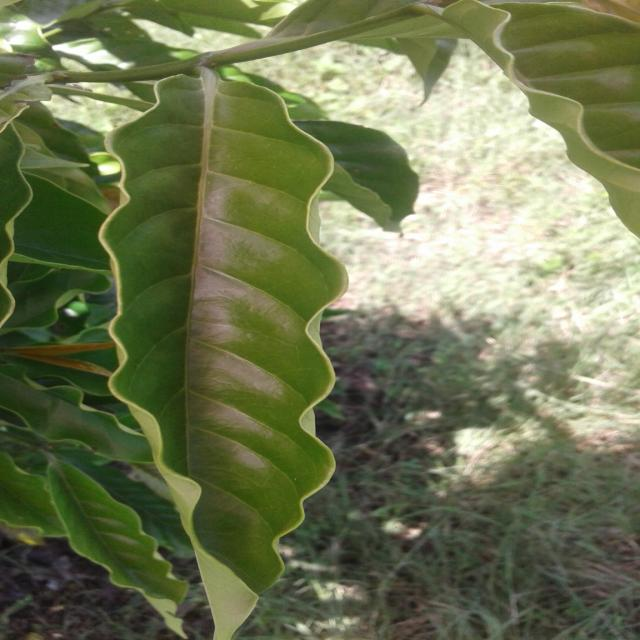Sanas: (97, 73, 369, 640)
